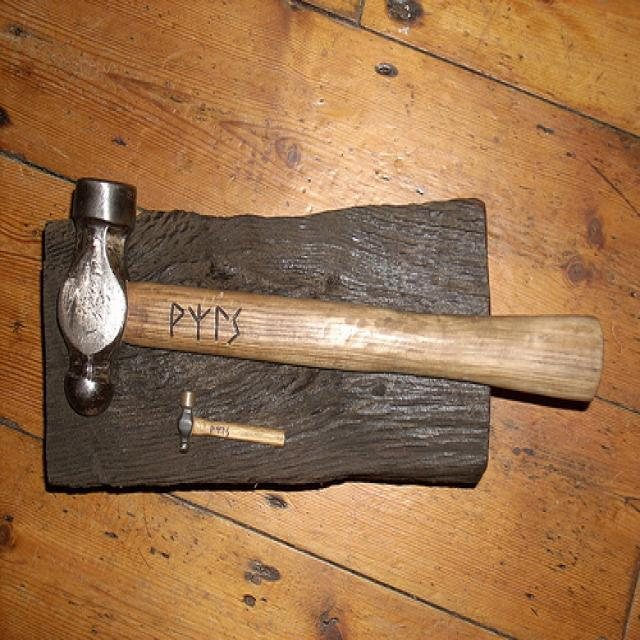hammer: (39, 134, 630, 476), (170, 378, 300, 468)
